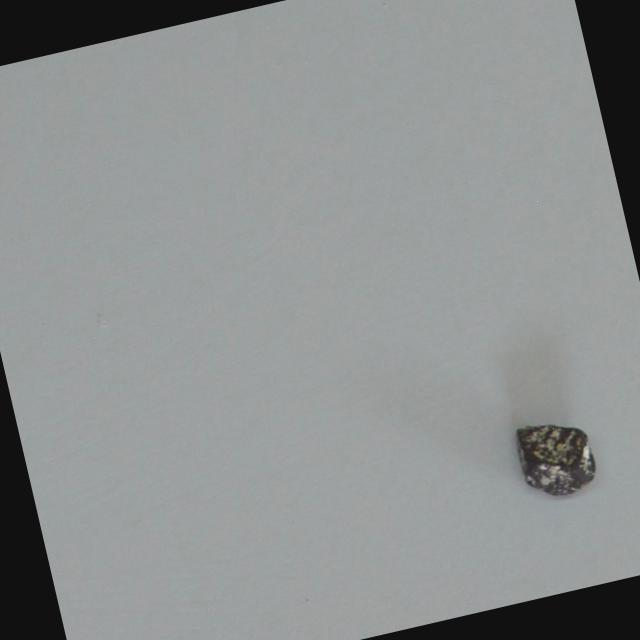cuerpos_extranos: (494, 397, 616, 517)
